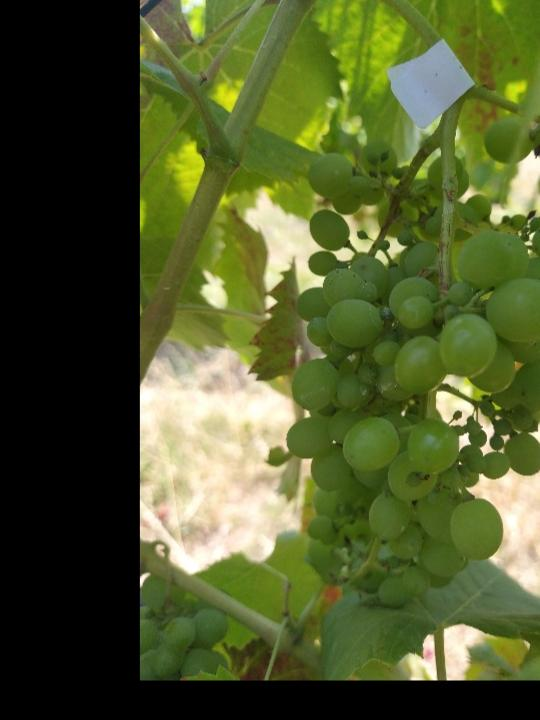grape: (275, 59, 540, 612)
